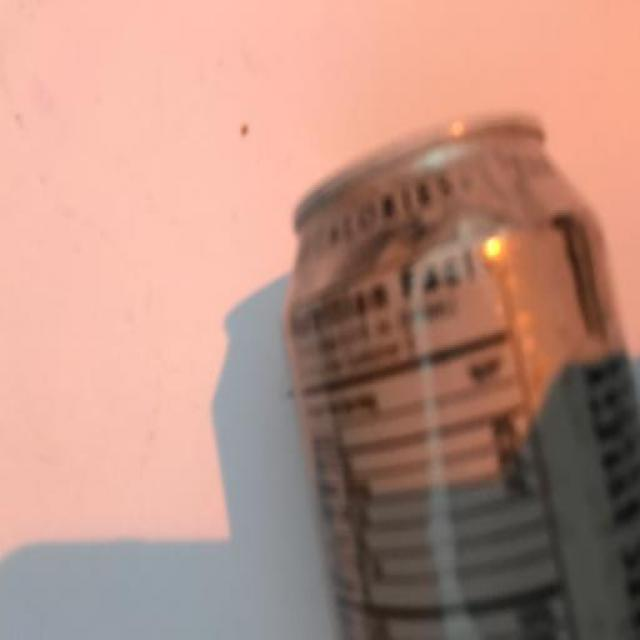metel: (246, 104, 640, 640)
